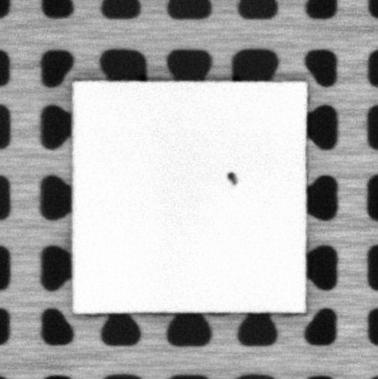DIE_INK: (226, 169, 238, 188)
